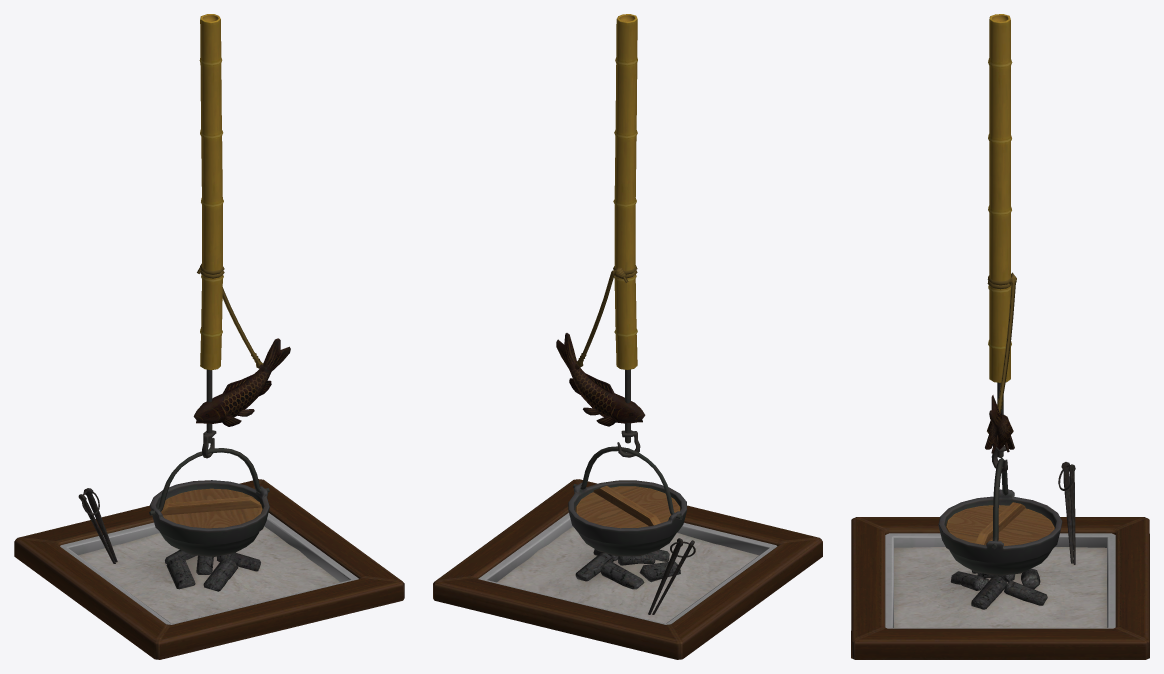
The model's file is FtrIrori.glb.
The picture shows the model from 3 angles, left to right: view 1: azimuth 30°, elevation 25°; view 2: azimuth 150°, elevation 25°; view 3: azimuth 270°, elevation 25°; orthographic projection. The views are drawn at different scales.
Parts seen in each view (by area): view 1: BanbooPole_low__mBody; view 2: BanbooPole_low__mBody; view 3: BanbooPole_low__mBody.
Boxes of the visible parts, left/top/right/bottom form: BanbooPole_low__mBody: left=14, top=14, right=404, bottom=659; BanbooPole_low__mBody: left=433, top=14, right=822, bottom=659; BanbooPole_low__mBody: left=851, top=14, right=1149, bottom=659.
Size of the model in its own units: 18.67 by 40 by 18.67.
1 material, 1 textured.
